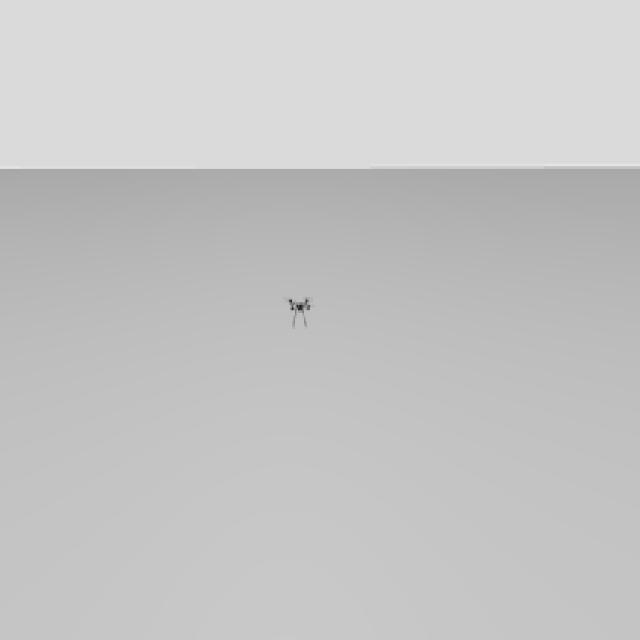drone: (284, 282, 314, 331)
